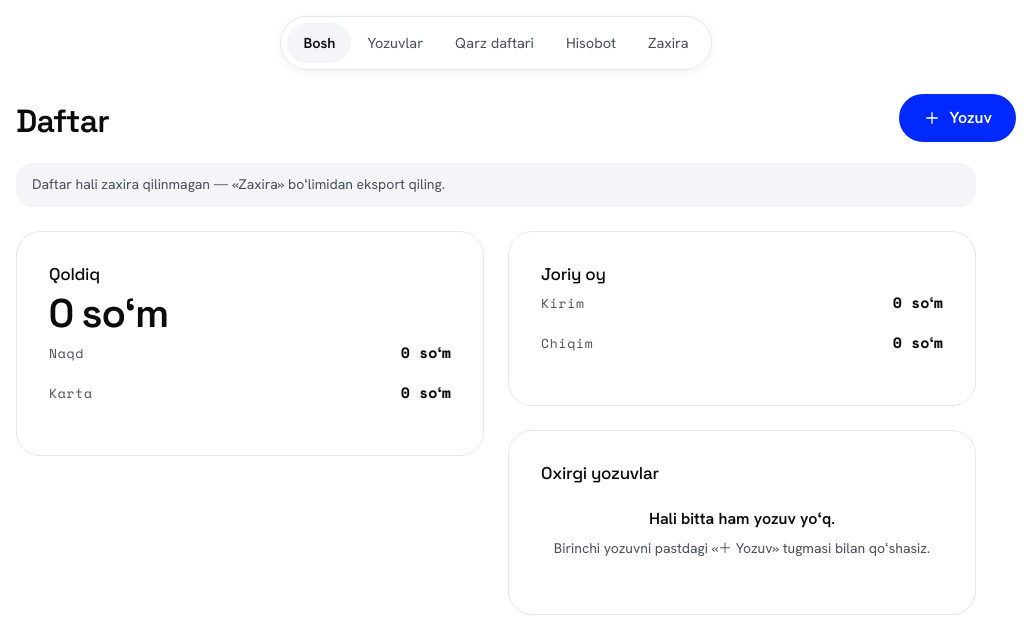
Test: 0063 — «Qarz daftari» boʻlagi roʻyxatni ochadi va boʻlim faol boʻlib qoladi
Click the button "Qarz daftari": [494, 43] box [439, 23, 550, 63]
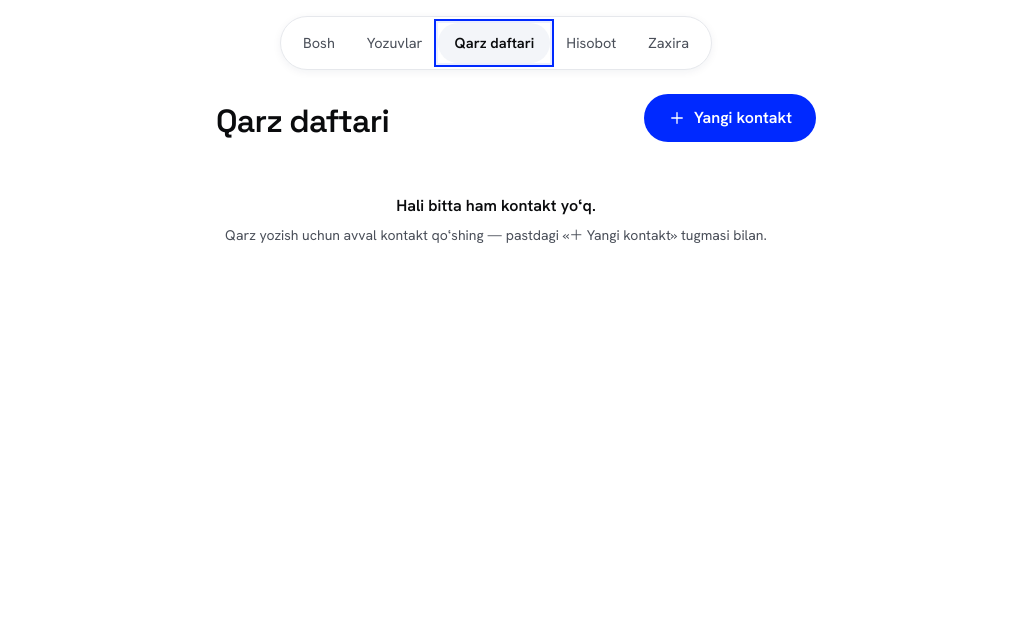
Now the heading "Qarz daftari" is shown, box [216, 101, 389, 141]
